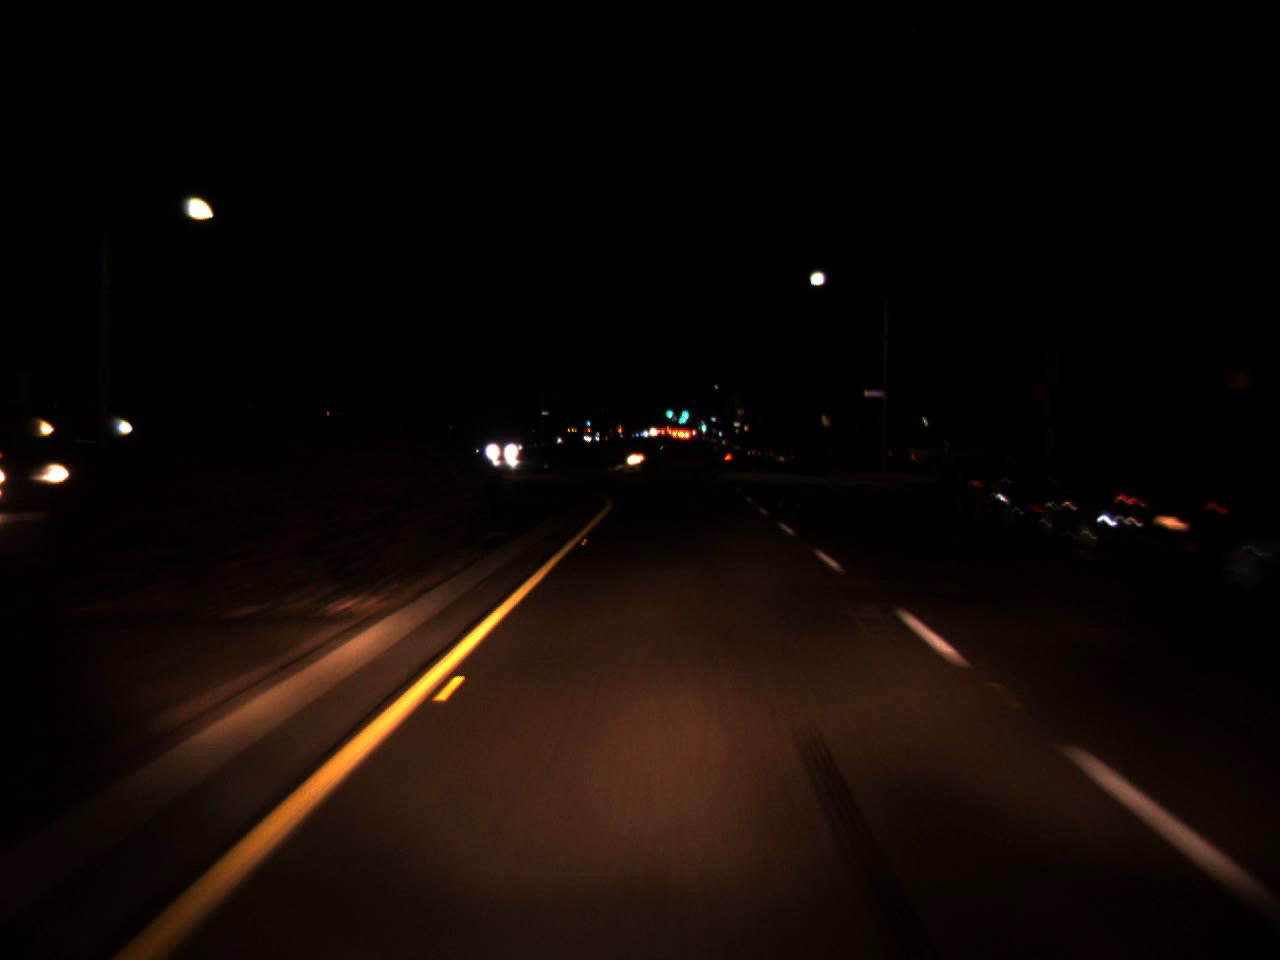go: (676, 401, 690, 422), (666, 403, 673, 418), (699, 417, 706, 432)
